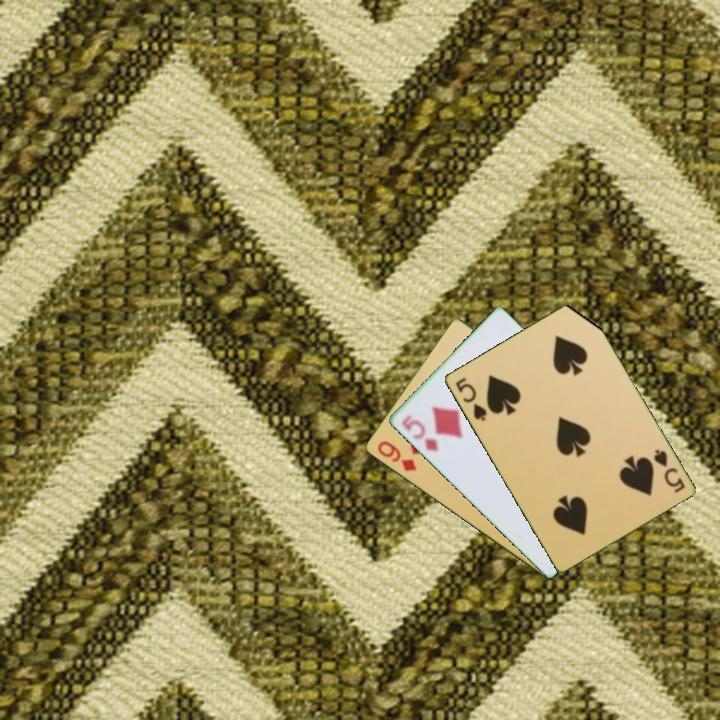5d: (398, 411, 441, 455)
5s: (451, 374, 490, 424), (650, 445, 688, 496)
9d: (373, 437, 419, 474)
